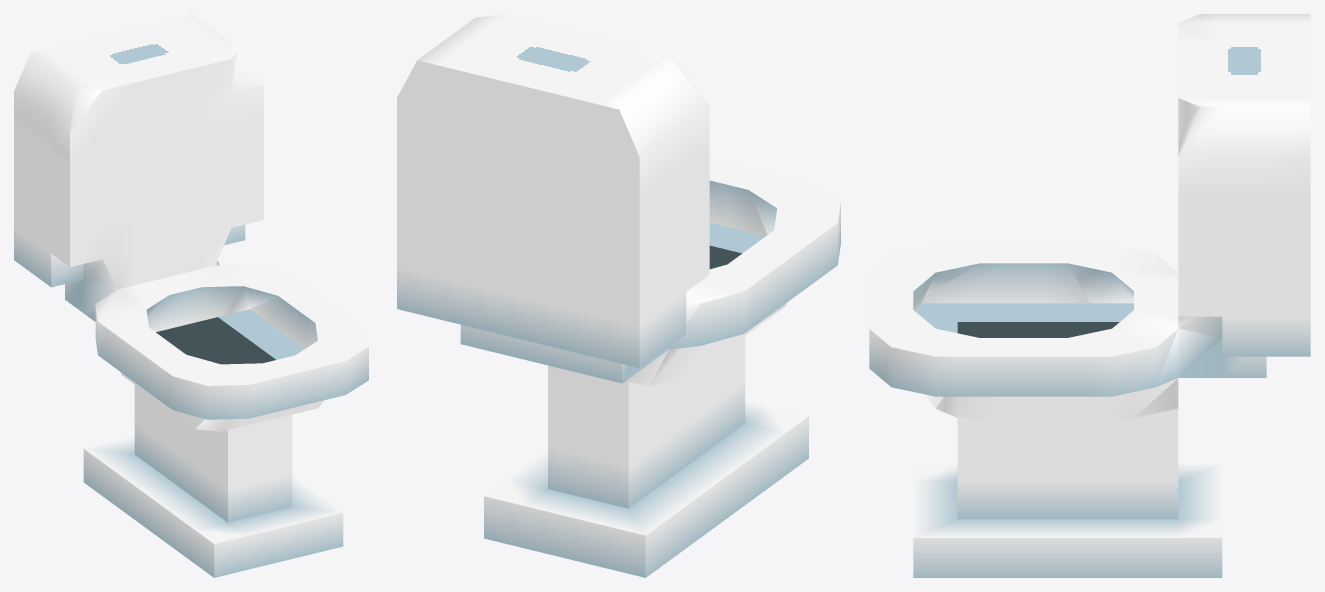
File: water_00.gltf
3 renders of one model, left to right at view 1: azimuth 30°, elevation 25°; view 2: azimuth 150°, elevation 25°; view 3: azimuth 270°, elevation 25°, orthographic. The views are drawn at different scales.
Size of the model in its own units: 6 by 12 by 10.
Materials: 1 (1 with a texture image).
